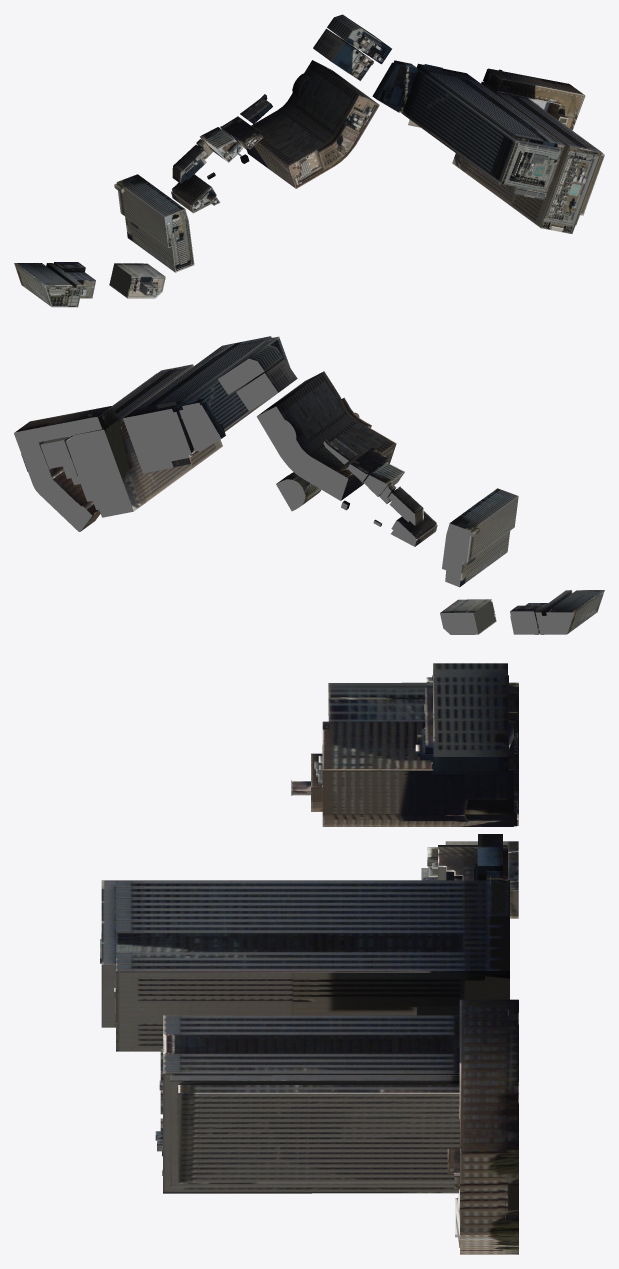
Rendered from 533945094_bldg_6677.obj.
The picture shows the model from 3 angles, top to bottom: view 1: azimuth 30°, elevation 25°; view 2: azimuth 150°, elevation 25°; view 3: azimuth 270°, elevation 25°; orthographic projection. The views are drawn at different scales.
Bounding box in the file's own units: 555 × 213 × 181.
Materials: 22 (22 with a texture image).
